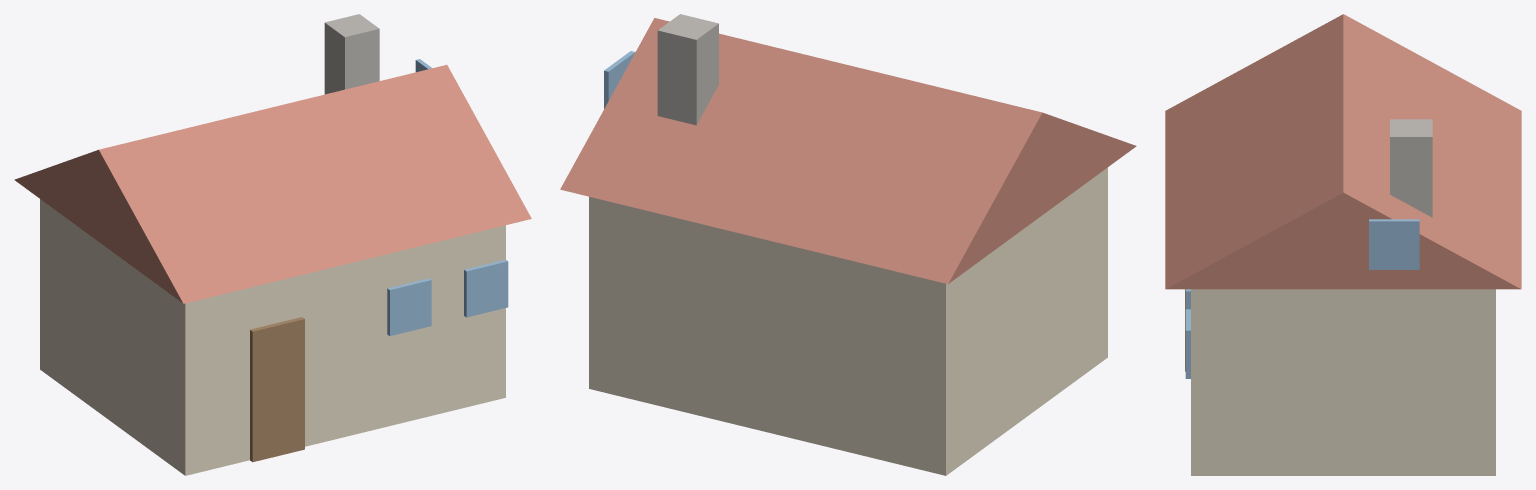
Rendered from house.glb.
The picture shows the model from 3 angles, left to right: view 1: azimuth 30°, elevation 25°; view 2: azimuth 150°, elevation 25°; view 3: azimuth 270°, elevation 25°; orthographic projection. The views are drawn at different scales.
Visible parts, largest first — view 1: HouseWalls, Roof, Door, Chimney, Window_0, Window_1; view 2: HouseWalls, Roof, Chimney, Window_Side; view 3: Roof, HouseWalls, Chimney, Window_Side, Window_1.
Part boxes in pixels (x1,y1,x2,y2): HouseWalls: [40, 199, 505, 475]; Roof: [14, 65, 531, 303]; Door: [250, 317, 304, 462]; Chimney: [324, 14, 379, 94]; Window_0: [387, 278, 431, 335]; Window_1: [464, 259, 508, 317]; HouseWalls: [589, 167, 1107, 475]; Roof: [560, 18, 1136, 283]; Chimney: [657, 14, 718, 125]; Window_Side: [604, 51, 635, 108]; Roof: [1165, 14, 1521, 289]; HouseWalls: [1191, 289, 1495, 475]; Chimney: [1390, 119, 1432, 217]; Window_Side: [1369, 219, 1419, 269]; Window_1: [1185, 309, 1190, 378].
Bounding box in the file's own units: 5.6 × 4.6 × 4.6.
